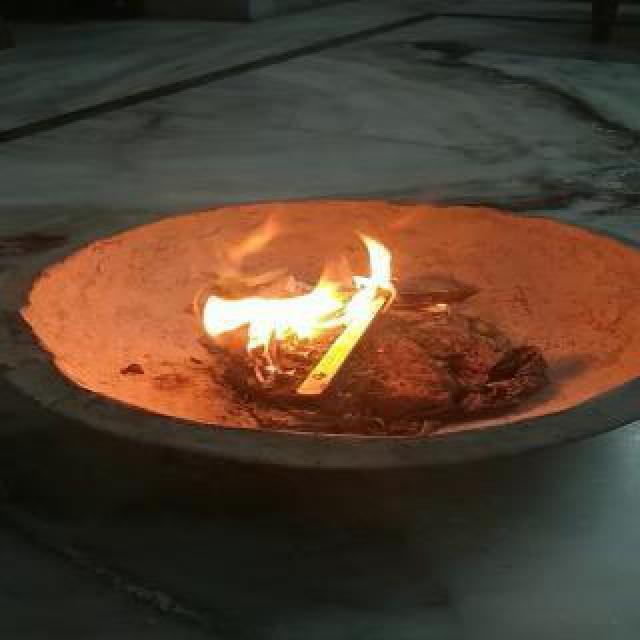Fire: (162, 202, 422, 350)
